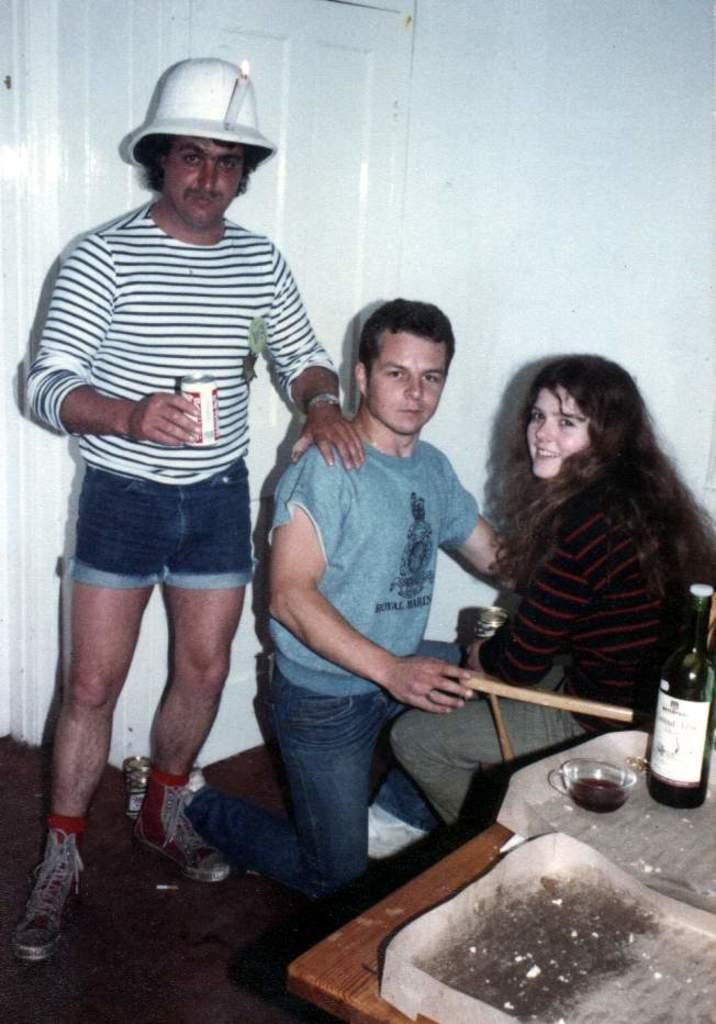Hat: (128, 56, 277, 170)
